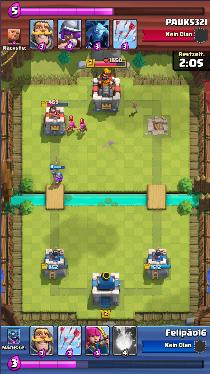ally_musketeer: (51, 170, 64, 185)
enemy_archer: (77, 122, 88, 134), (66, 121, 76, 133)
